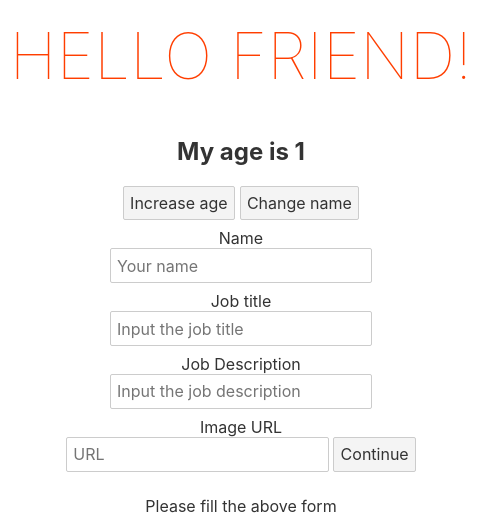
Test: changes name when change name button is clicked
The image size is (483, 530).
Click the button "Change name" at (299, 203), box 240,186 -> 359,220
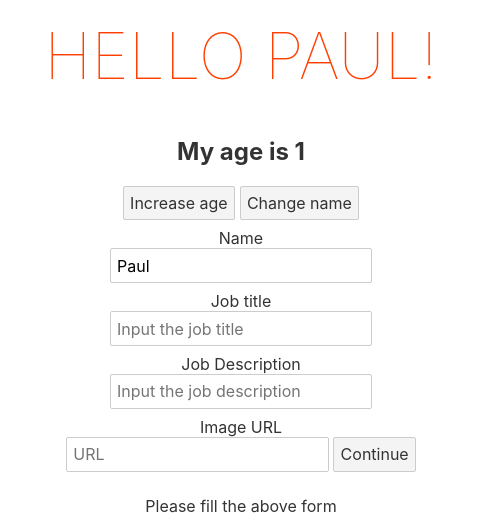
Result: the heading "Hello PAUL!" is shown at 44,17 -> 438,94
